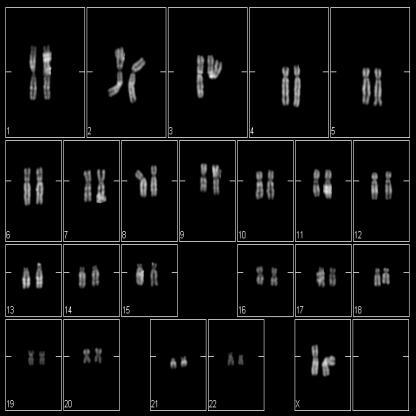1: (26, 40, 40, 106), (39, 41, 52, 106)
10: (251, 168, 266, 202), (265, 169, 279, 203)
11: (310, 166, 322, 204), (322, 168, 333, 204)
12: (368, 166, 382, 206), (382, 166, 394, 206)
13: (31, 257, 44, 292), (18, 258, 30, 290)
14: (76, 260, 90, 296), (89, 258, 103, 294)
15: (146, 258, 162, 290), (132, 258, 147, 290)
16: (254, 260, 268, 292), (268, 260, 280, 292)
17: (314, 263, 327, 291), (326, 262, 339, 290)
18: (381, 264, 391, 292), (372, 262, 381, 290)
19: (24, 344, 37, 369), (36, 344, 48, 368)
2: (106, 44, 127, 100), (126, 47, 146, 102)
20: (94, 344, 106, 370), (82, 344, 94, 369)
21: (166, 352, 180, 370), (180, 351, 194, 369)
22: (224, 349, 236, 373), (236, 348, 247, 372)
3: (204, 47, 223, 102), (192, 48, 204, 104)
4: (292, 63, 307, 113), (278, 62, 292, 112)
5: (360, 64, 372, 108), (372, 63, 384, 107)
6: (22, 163, 34, 209), (34, 162, 46, 207)
7: (94, 162, 110, 208), (79, 163, 94, 209)
8: (133, 160, 149, 200), (148, 160, 164, 199)
9: (210, 156, 222, 196), (198, 156, 209, 196)
X: (320, 338, 338, 382), (307, 338, 320, 382)
